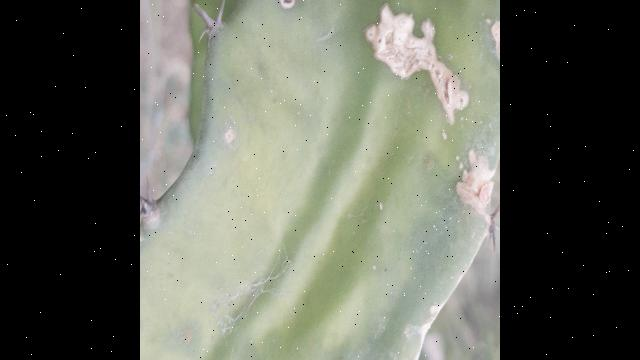stemcanker: (365, 4, 469, 127), (453, 149, 500, 240)
